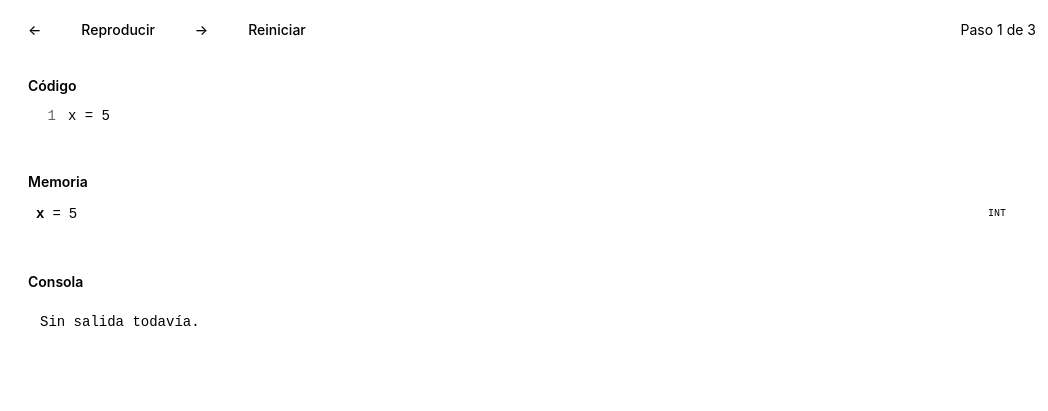
Test: TracePanel › reiniciar vuelve al primer paso
This screenshot has width=1048, height=411.
Click the button named "siguiente" at [202, 30], box 179,12 -> 224,48
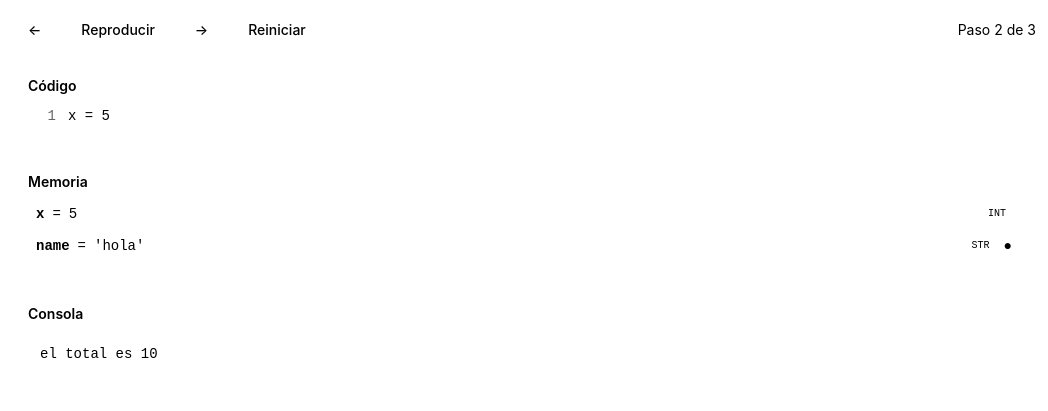
Click the button named "siguiente" at [202, 30], box 179,12 -> 224,48
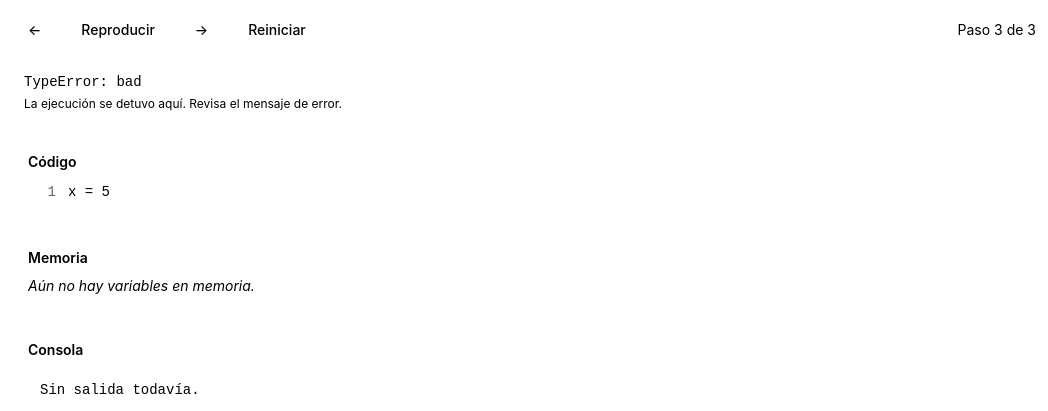
Click the button "Reiniciar" at [277, 30], box 232,12 -> 322,48
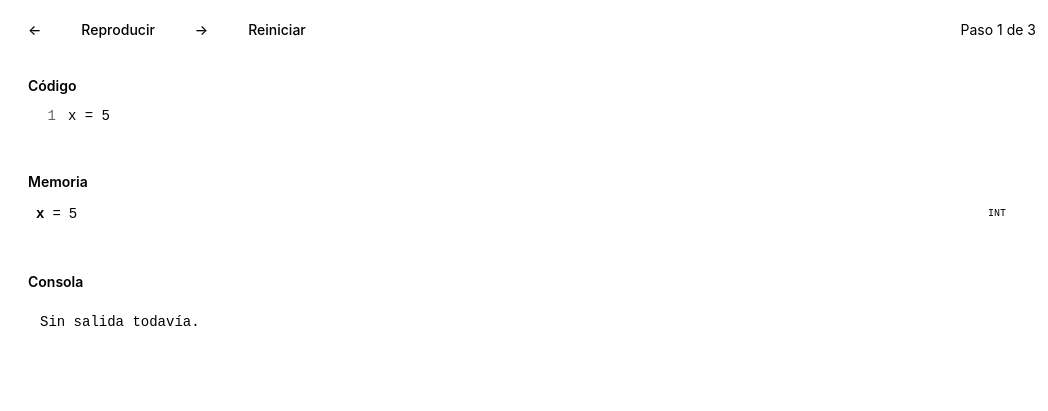
Result: the text "Paso 1 de 3" is shown at 960,20 -> 1036,40
